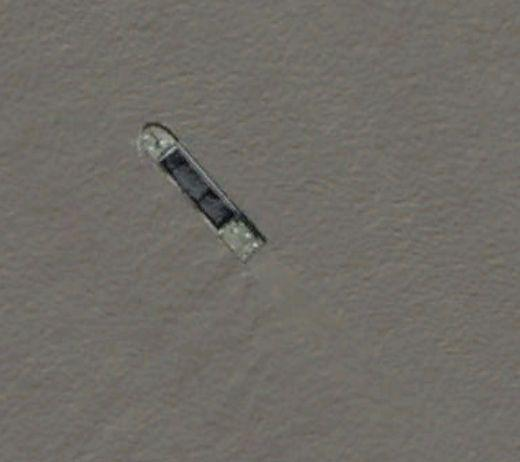Ships: (132, 120, 281, 266)
